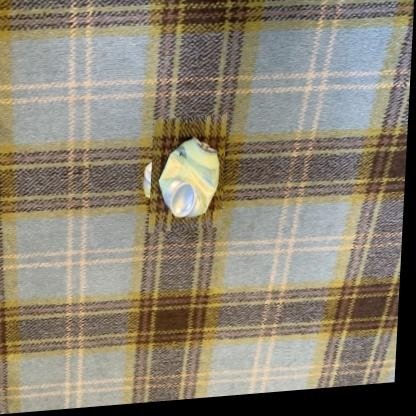trash: (159, 138, 218, 216)
